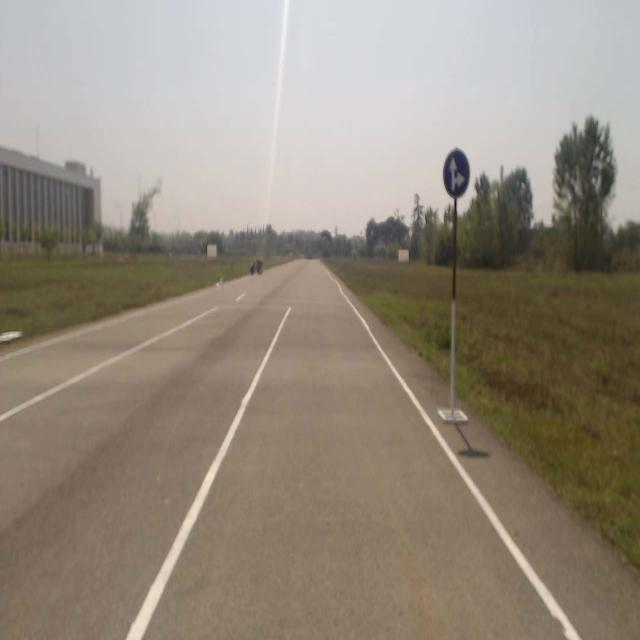ilerisag: (442, 150, 470, 197)
